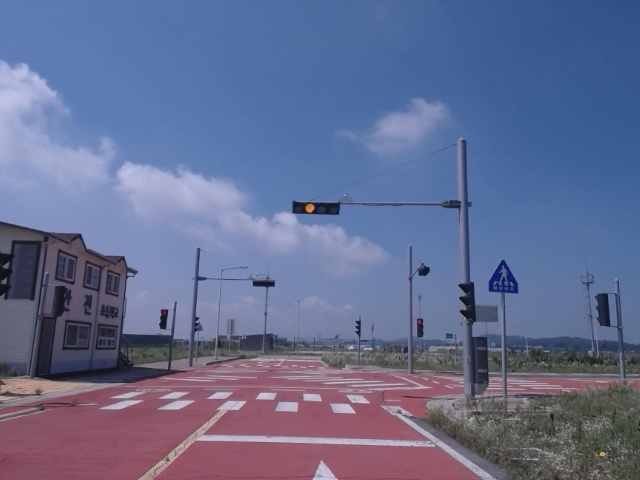orange_4: (291, 201, 341, 216)
